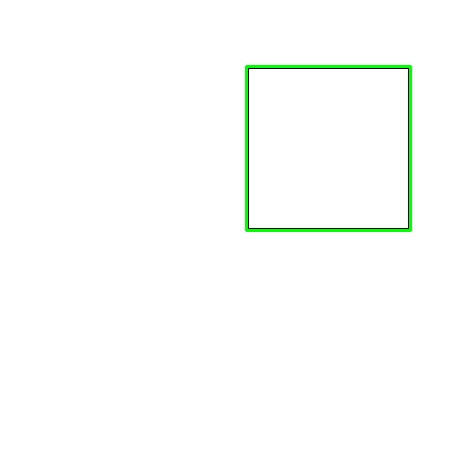line_segment: (245, 65, 412, 232)
